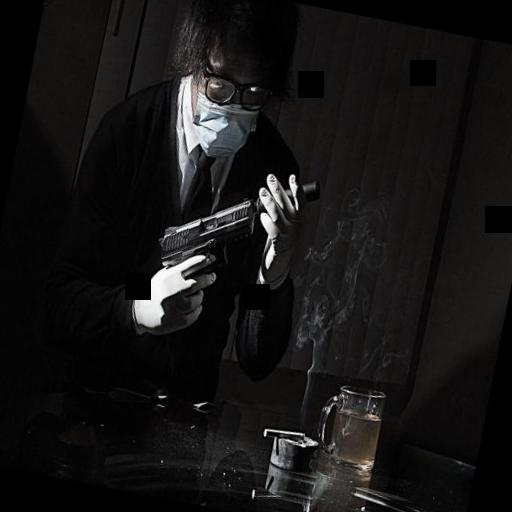Handgun: (147, 150, 323, 314)
